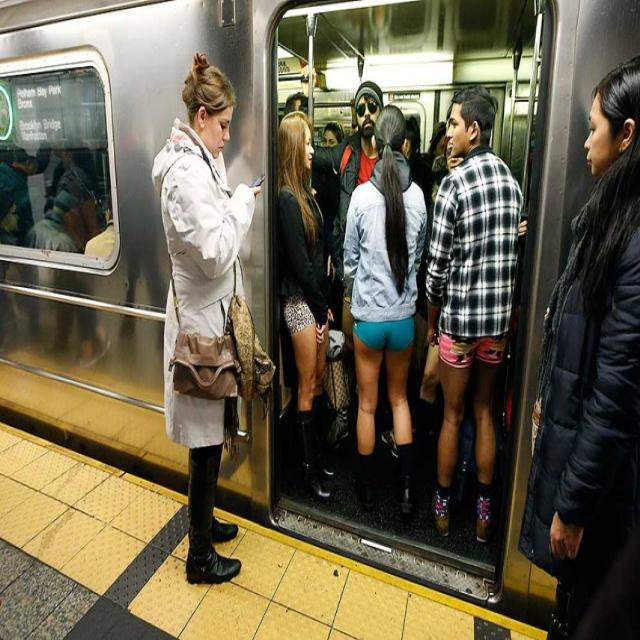body: (518, 53, 639, 639), (150, 51, 278, 588), (424, 80, 526, 544), (0, 129, 170, 373), (423, 122, 525, 528), (343, 101, 429, 517), (280, 78, 543, 211), (275, 108, 339, 506), (298, 81, 386, 279)
